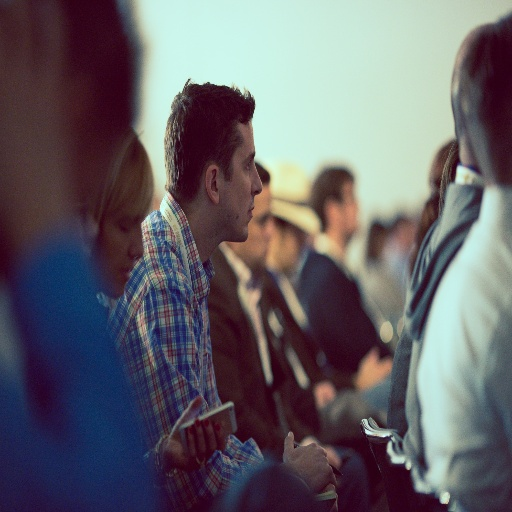hand: (163, 395, 227, 474), (283, 430, 337, 495), (354, 347, 396, 389), (314, 379, 336, 410), (314, 484, 335, 511)
